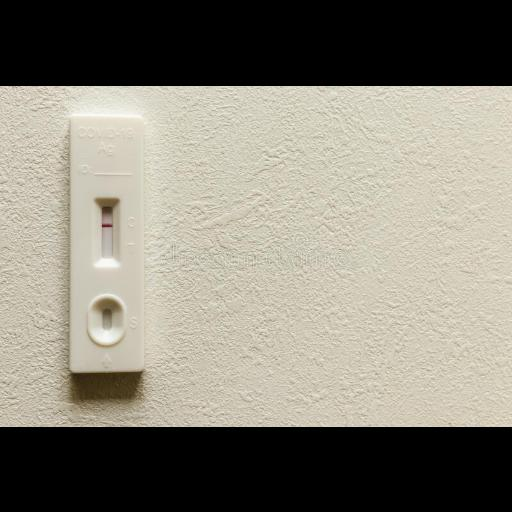Neg: (70, 114, 142, 370)
